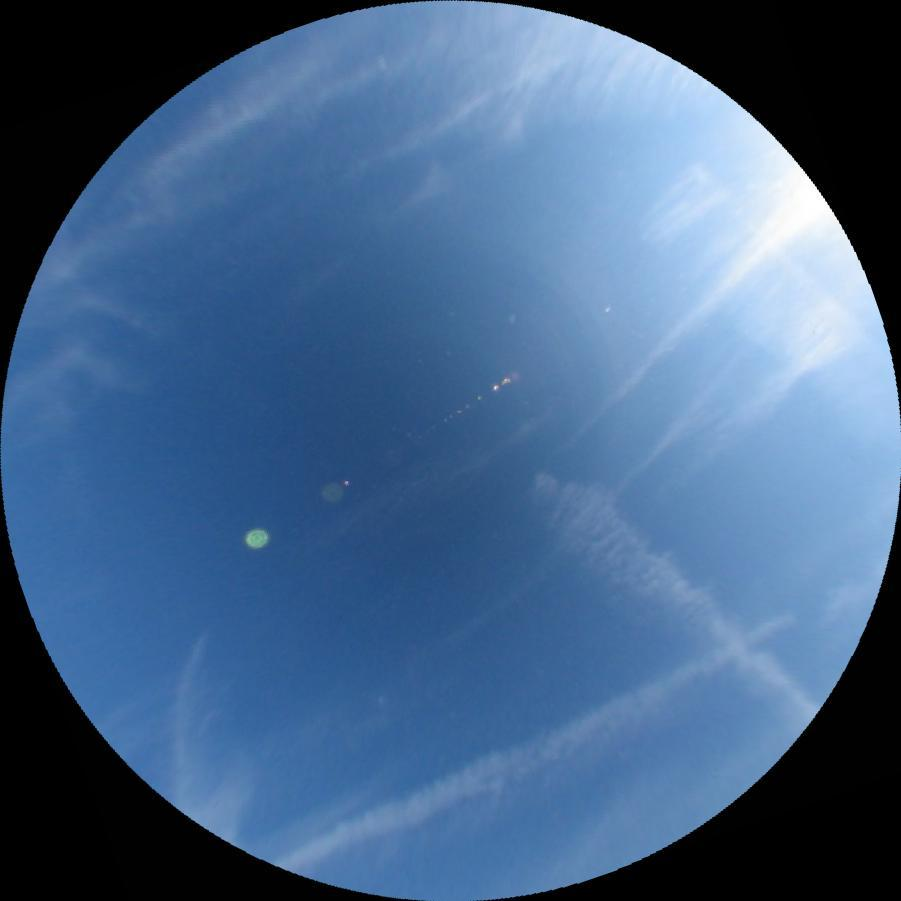contrail veryold: (269, 606, 806, 888), (512, 445, 822, 764), (621, 151, 901, 452)
